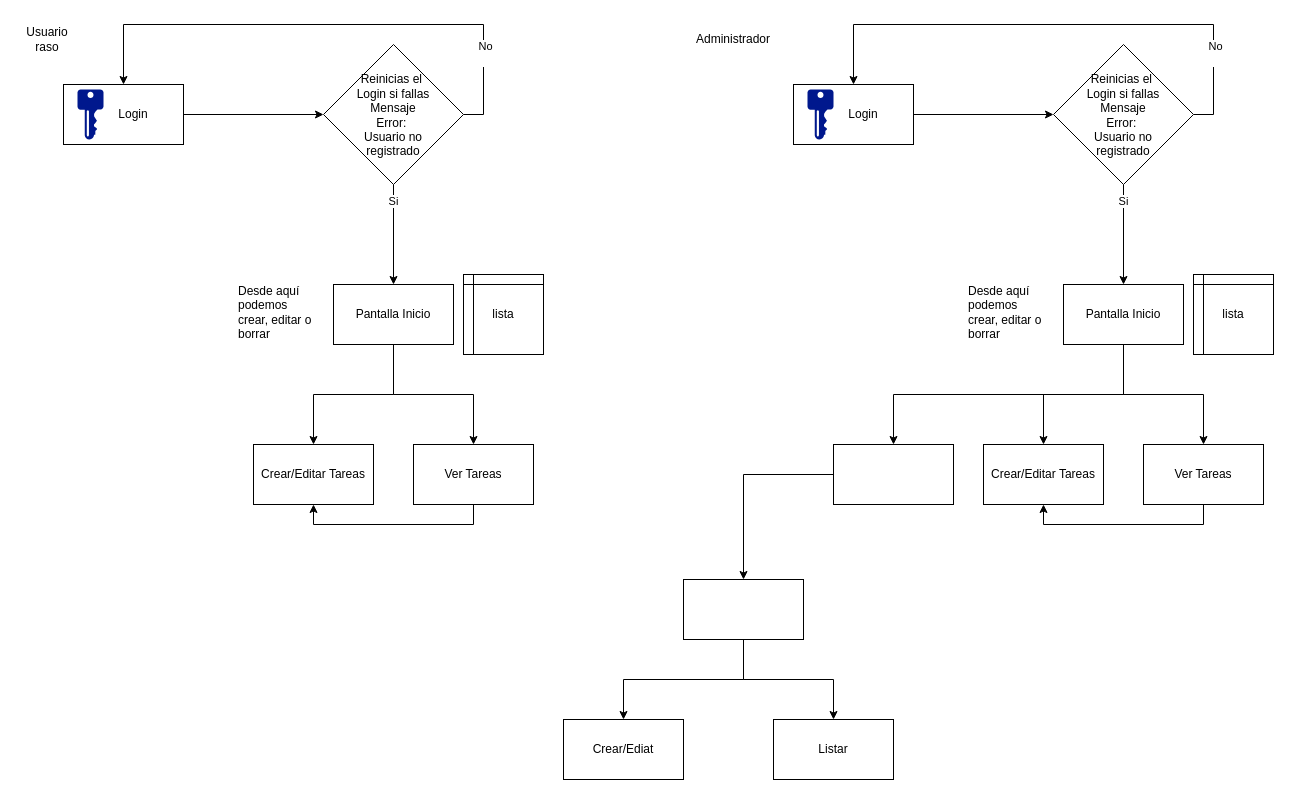
The diagram is 1291 pixels wide and 797 high, and some of its shapes have lost their labels. Each missing label, with the centre of its shape:
"Gestión usuarios" goes at point (743, 609).
"Panel Administración" goes at point (893, 474).
